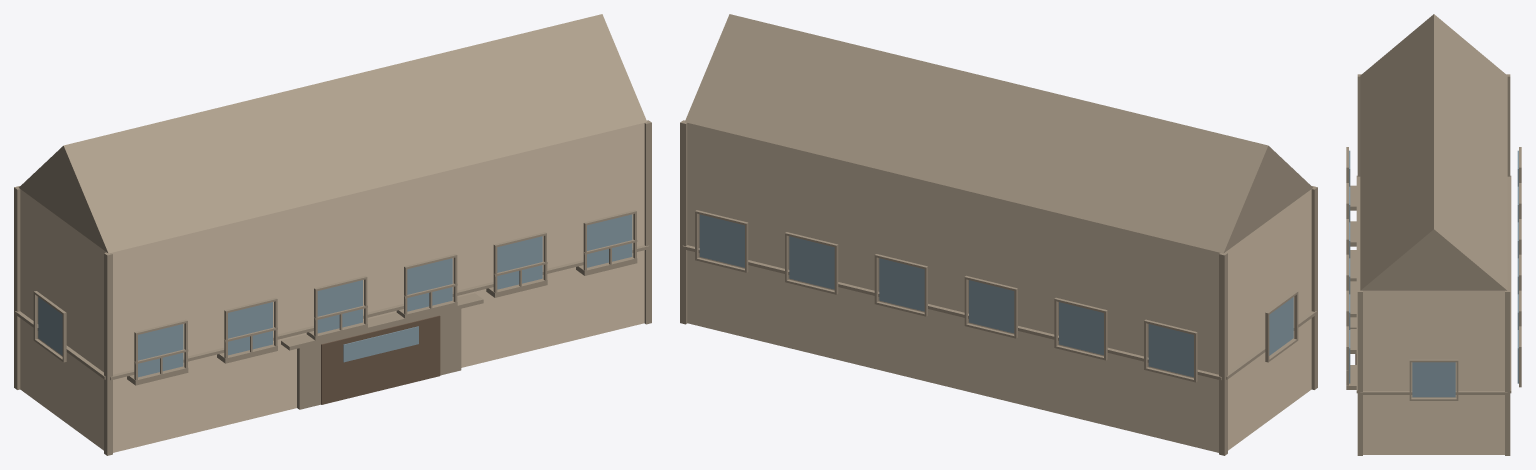
File: lot_3x1_gable.glb
3 renders of one model, left to right at view 1: azimuth 30°, elevation 25°; view 2: azimuth 150°, elevation 25°; view 3: azimuth 270°, elevation 25°, orthographic. The views are drawn at different scales.
Parts seen in each view (by area): view 1: lot_3x1_gable; view 2: lot_3x1_gable; view 3: lot_3x1_gable.
Boxes of the visible parts, bbox=[...] form: lot_3x1_gable: bbox=[14, 14, 651, 455]; lot_3x1_gable: bbox=[680, 14, 1317, 455]; lot_3x1_gable: bbox=[1346, 14, 1521, 455].
Bounding box in the file's own units: 23.74 × 11 × 7.74.
